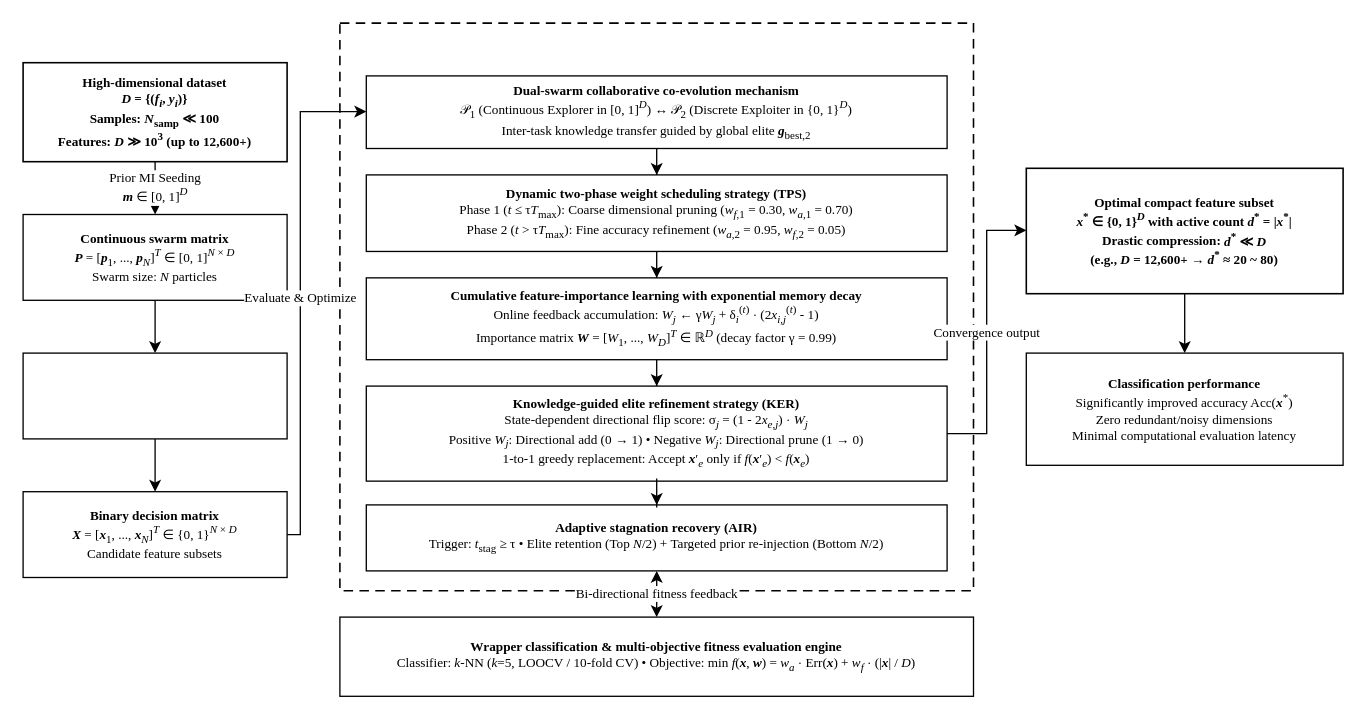
Image size: 1368x721. Some labels were removed from this diagram. Here are the shapes that lost their labels. From the top down, the box of each, then its label:
(338, 22, 974, 591): KDS-EL Feature Selection Optimization Engine
(22, 352, 287, 439): Step binarization x i , j = 1 if p i , j ≥ θ, else 0 Threshold: θ > 0.50
